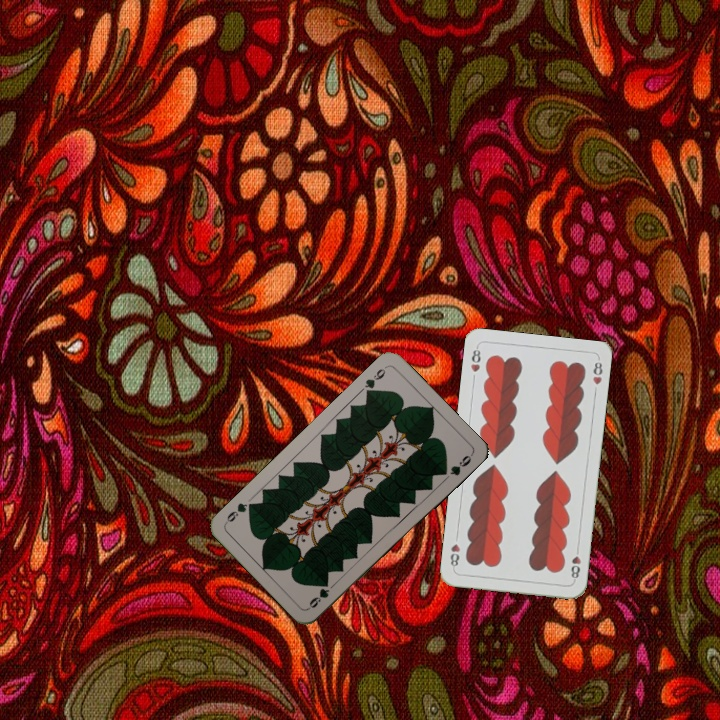G9: (360, 362, 389, 399), (305, 579, 337, 611)
H8: (567, 543, 583, 584), (467, 342, 483, 375)
